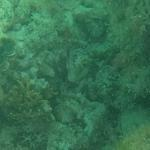dead: (4, 5, 146, 147)
